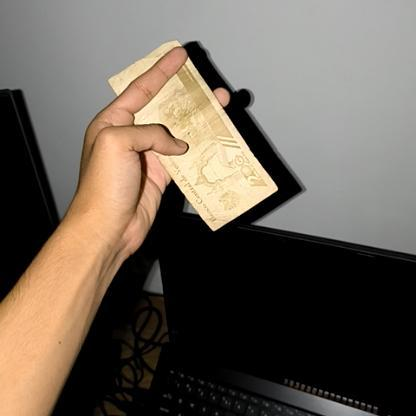vef_back: (106, 39, 278, 233)
